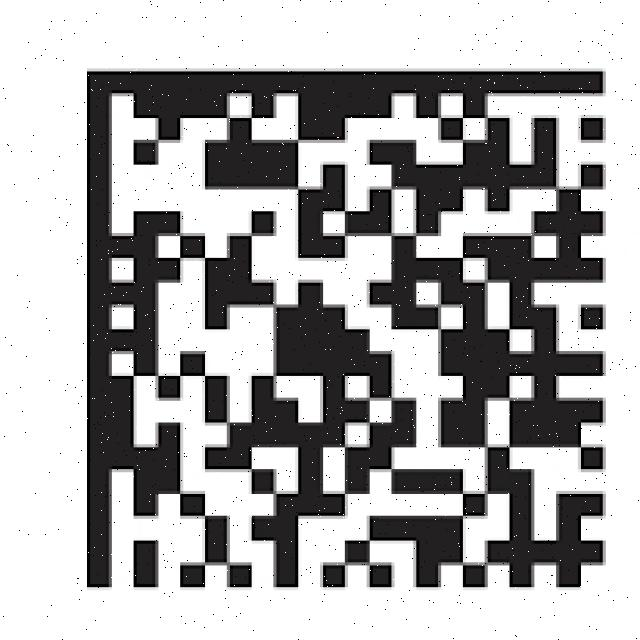datamatrix: (75, 62, 618, 603)
